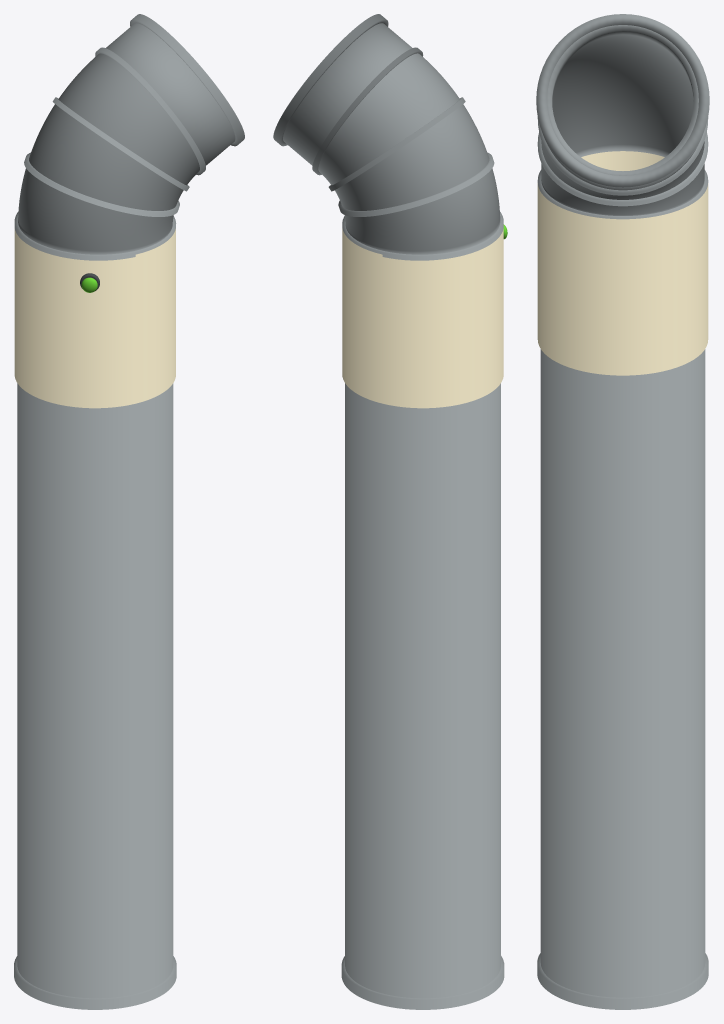
Rendered from BackPipe(Rocket).fbx.
The picture shows the model from 3 angles, left to right: view 1: azimuth 30°, elevation 25°; view 2: azimuth 150°, elevation 25°; view 3: azimuth 270°, elevation 25°; orthographic projection. The views are drawn at different scales.
Visible parts, largest first — view 1: Open metal main tube, Hollow bent exhaust elbow, Ivory upper sleeve, Bottom rim, Thick outlet lip, Elbow raised seam, Elbow raised seam.001, Elbow raised seam.003, Elbow raised seam.002; view 2: Open metal main tube, Hollow bent exhaust elbow, Ivory upper sleeve, Bottom rim, Thick outlet lip, Elbow raised seam, Elbow raised seam.001, Elbow raised seam.003, Elbow raised seam.002; view 3: Open metal main tube, Ivory upper sleeve, Hollow bent exhaust elbow, Thick outlet lip, Bottom rim, Elbow raised seam.001, Elbow raised seam.002, Elbow raised seam, Elbow raised seam.003.
Part boxes in pixels (left/top/right/bottom): Open metal main tube: left=17, top=383, right=173, bottom=998; Hollow bent exhaust elbow: left=18, top=23, right=235, bottom=254; Ivory upper sleeve: left=14, top=229, right=175, bottom=408; Bottom rim: left=14, top=956, right=176, bottom=1009; Thick outlet lip: left=130, top=14, right=244, bottom=146; Elbow raised seam: left=14, top=212, right=176, bottom=260; Elbow raised seam.001: left=24, top=152, right=179, bottom=216; Elbow raised seam.003: left=95, top=47, right=205, bottom=175; Elbow raised seam.002: left=52, top=97, right=189, bottom=191; Open metal main tube: left=345, top=383, right=500, bottom=998; Hollow bent exhaust elbow: left=283, top=23, right=500, bottom=254; Ivory upper sleeve: left=342, top=228, right=503, bottom=408; Bottom rim: left=341, top=956, right=504, bottom=1009; Thick outlet lip: left=273, top=14, right=388, bottom=146; Elbow raised seam: left=342, top=212, right=503, bottom=260; Elbow raised seam.001: left=338, top=152, right=494, bottom=216; Elbow raised seam.003: left=312, top=47, right=423, bottom=175; Elbow raised seam.002: left=328, top=97, right=465, bottom=191; Open metal main tube: left=540, top=349, right=705, bottom=997; Ivory upper sleeve: left=537, top=151, right=708, bottom=375; Hollow bent exhaust elbow: left=541, top=25, right=704, bottom=215; Thick outlet lip: left=536, top=14, right=709, bottom=187; Bottom rim: left=537, top=953, right=708, bottom=1009; Elbow raised seam.001: left=537, top=132, right=708, bottom=206; Elbow raised seam.002: left=537, top=117, right=708, bottom=195; Elbow raised seam: left=537, top=170, right=708, bottom=219; Elbow raised seam.003: left=544, top=137, right=701, bottom=190.
Size of the model in its own units: 81.98 by 365 by 58.
